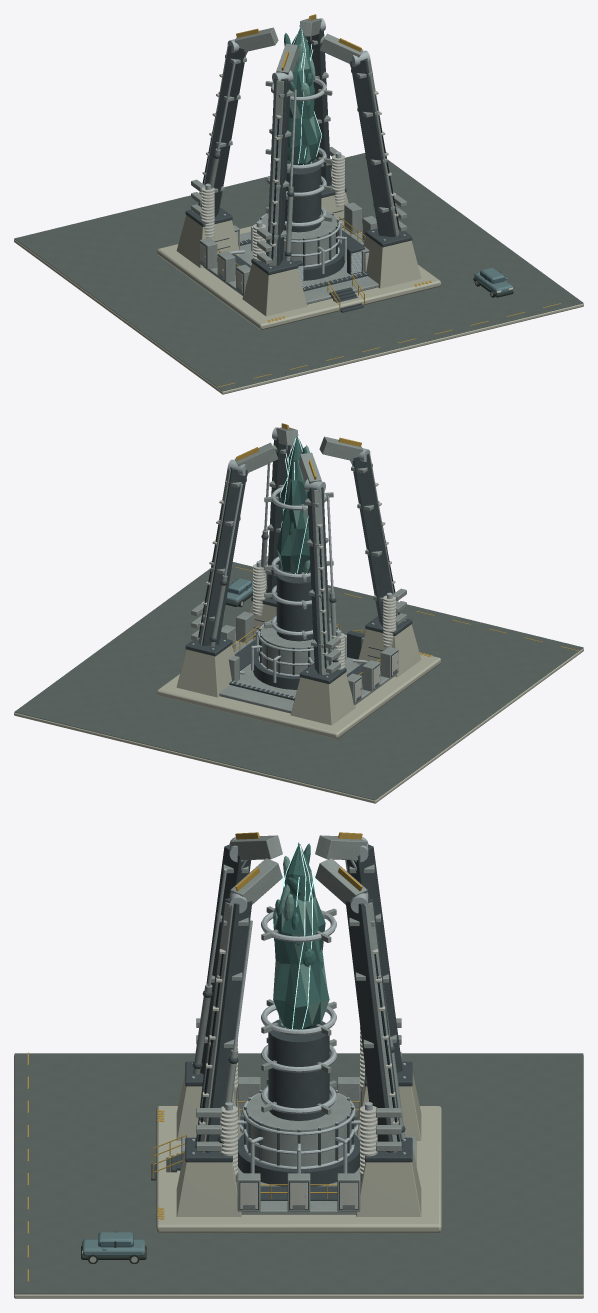
Rendered from purification-tower.glb.
The picture shows the model from 3 angles, top to bottom: view 1: azimuth 30°, elevation 25°; view 2: azimuth 150°, elevation 25°; view 3: azimuth 270°, elevation 25°; orthographic projection. The views are drawn at different scales.
Visible parts, largest first — view 1: asphalt_DisplaySite.001, 深灰结构钢_purification-tower_Quality.001, 设备浅灰漆面_purification-tower_Quality.001, poi_service_concrete_purification-tower_Quality.001, 机械加工不锈钢_purification-tower_Quality.001, 异质核心暗青外壳_AlienCore.001, 检修面板浅灰_purification-tower_Quality.001, poi_service_concrete_DisplaySite.001, 凹槽与绝缘件_purification-tower_Quality.001, 低饱和检修黄_purification-tower_Quality.001, car_paint_0_ScaleCar.001; view 2: asphalt_DisplaySite.001, 深灰结构钢_purification-tower_Quality.001, 设备浅灰漆面_purification-tower_Quality.001, poi_service_concrete_purification-tower_Quality.001, 机械加工不锈钢_purification-tower_Quality.001, 异质核心暗青外壳_AlienCore.001, 检修面板浅灰_purification-tower_Quality.001, poi_service_concrete_DisplaySite.001, 凹槽与绝缘件_purification-tower_Quality.001, 低饱和检修黄_purification-tower_Quality.001; view 3: asphalt_DisplaySite.001, 深灰结构钢_purification-tower_Quality.001, 设备浅灰漆面_purification-tower_Quality.001, poi_service_concrete_purification-tower_Quality.001, 机械加工不锈钢_purification-tower_Quality.001, 异质核心暗青外壳_AlienCore.001, 检修面板浅灰_purification-tower_Quality.001, poi_service_concrete_DisplaySite.001, 低饱和检修黄_purification-tower_Quality.001, 凹槽与绝缘件_purification-tower_Quality.001, car_paint_0_ScaleCar.001, 转化核心青白光_AlienCore.001.
Part boxes in pixels (x1=…): asphalt_DisplaySite.001: x1=14, y1=153, x2=583, y2=391; 深灰结构钢_purification-tower_Quality.001: x1=185, y1=28, x2=412, y2=312; 设备浅灰漆面_purification-tower_Quality.001: x1=191, y1=18, x2=406, y2=304; poi_service_concrete_purification-tower_Quality.001: x1=157, y1=192, x2=440, y2=329; 机械加工不锈钢_purification-tower_Quality.001: x1=192, y1=18, x2=405, y2=289; 异质核心暗青外壳_AlienCore.001: x1=284, y1=27, x2=321, y2=165; 检修面板浅灰_purification-tower_Quality.001: x1=199, y1=73, x2=398, y2=293; poi_service_concrete_DisplaySite.001: x1=14, y1=239, x2=583, y2=394; 凹槽与绝缘件_purification-tower_Quality.001: x1=198, y1=95, x2=399, y2=294; 低饱和检修黄_purification-tower_Quality.001: x1=217, y1=14, x2=431, y2=322; car_paint_0_ScaleCar.001: x1=474, y1=267, x2=512, y2=294; asphalt_DisplaySite.001: x1=14, y1=562, x2=583, y2=800; 深灰结构钢_purification-tower_Quality.001: x1=185, y1=437, x2=412, y2=701; 设备浅灰漆面_purification-tower_Quality.001: x1=191, y1=427, x2=406, y2=713; poi_service_concrete_purification-tower_Quality.001: x1=157, y1=601, x2=440, y2=738; 机械加工不锈钢_purification-tower_Quality.001: x1=192, y1=427, x2=405, y2=698; 异质核心暗青外壳_AlienCore.001: x1=276, y1=436, x2=310, y2=574; 检修面板浅灰_purification-tower_Quality.001: x1=199, y1=482, x2=398, y2=702; poi_service_concrete_DisplaySite.001: x1=14, y1=648, x2=583, y2=803; 凹槽与绝缘件_purification-tower_Quality.001: x1=198, y1=504, x2=399, y2=703; 低饱和检修黄_purification-tower_Quality.001: x1=232, y1=423, x2=432, y2=678; asphalt_DisplaySite.001: x1=14, y1=1053, x2=583, y2=1294; 深灰结构钢_purification-tower_Quality.001: x1=151, y1=844, x2=412, y2=1209; 设备浅灰漆面_purification-tower_Quality.001: x1=181, y1=835, x2=416, y2=1214; poi_service_concrete_purification-tower_Quality.001: x1=156, y1=1073, x2=441, y2=1232; 机械加工不锈钢_purification-tower_Quality.001: x1=192, y1=837, x2=405, y2=1197; 异质核心暗青外壳_AlienCore.001: x1=273, y1=842, x2=329, y2=1029; 检修面板浅灰_purification-tower_Quality.001: x1=199, y1=949, x2=398, y2=1209; poi_service_concrete_DisplaySite.001: x1=14, y1=1055, x2=583, y2=1298; 低饱和检修黄_purification-tower_Quality.001: x1=153, y1=832, x2=362, y2=1219; 凹槽与绝缘件_purification-tower_Quality.001: x1=198, y1=954, x2=399, y2=1209; car_paint_0_ScaleCar.001: x1=82, y1=1232, x2=144, y2=1256; 转化核心青白光_AlienCore.001: x1=272, y1=842, x2=318, y2=1029.
Bounding box in the file's own units: 40 × 26.11 × 40.
19 materials, 10 textured.
